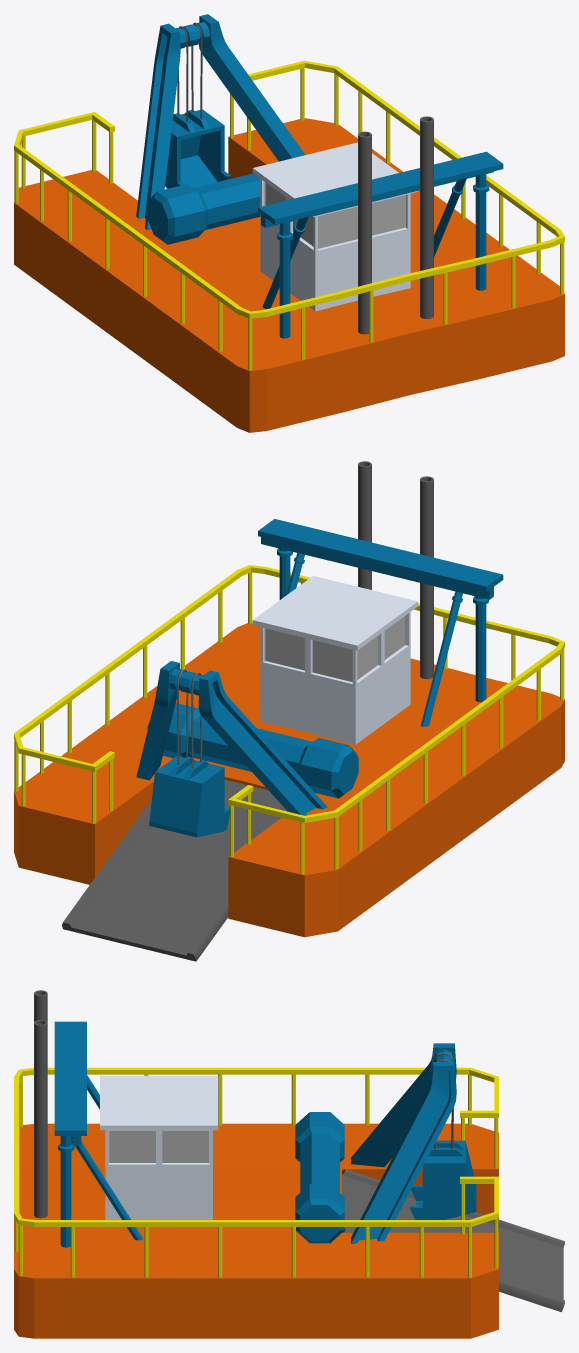
Rendered from Dredge.fbx.
3 views of the same model, one above another, from view 1: azimuth 30°, elevation 25°; view 2: azimuth 150°, elevation 25°; view 3: azimuth 270°, elevation 25° (orthographic). The views are drawn at different scales.
Visible parts, largest first — view 1: mesh_dredge; view 2: mesh_dredge; view 3: mesh_dredge.
Part boxes in pixels (<box>): mesh_dredge: <box>14,14,564,432</box>; mesh_dredge: <box>14,461,564,961</box>; mesh_dredge: <box>14,990,564,1338</box>.
Size of the model in its own units: 3.74 by 3.08 by 5.64.
